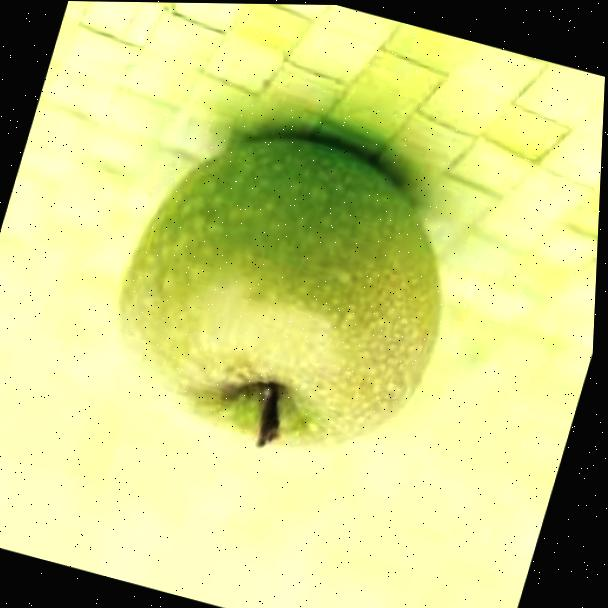HEALTHY: (59, 83, 503, 516)
